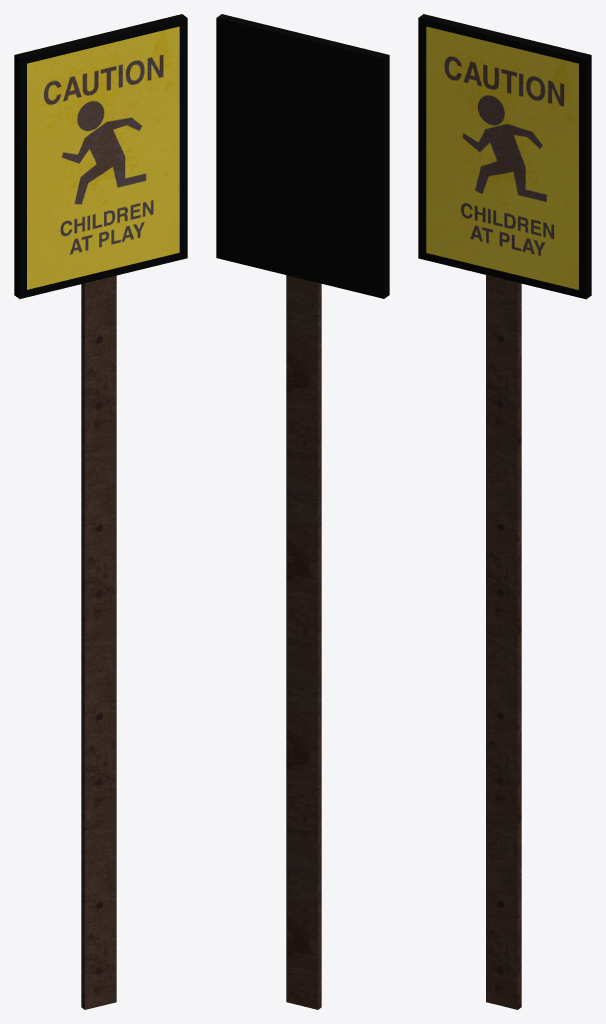
Rendered from fbxSign.fbx.
3 views of the same model, side by side, from view 1: azimuth 30°, elevation 25°; view 2: azimuth 150°, elevation 25°; view 3: azimuth 330°, elevation 25° (orthographic).
Parts seen in each view (by area): view 1: sign; view 2: sign; view 3: sign.
Boxes of the visible parts, box(x1,y1,x2,y2) form: sign: box(14, 14, 187, 1009); sign: box(216, 14, 389, 1009); sign: box(418, 14, 591, 1009).
Bounding box in the file's own units: 1.35 × 7.45 × 0.0747.
3 materials, 2 textured.
